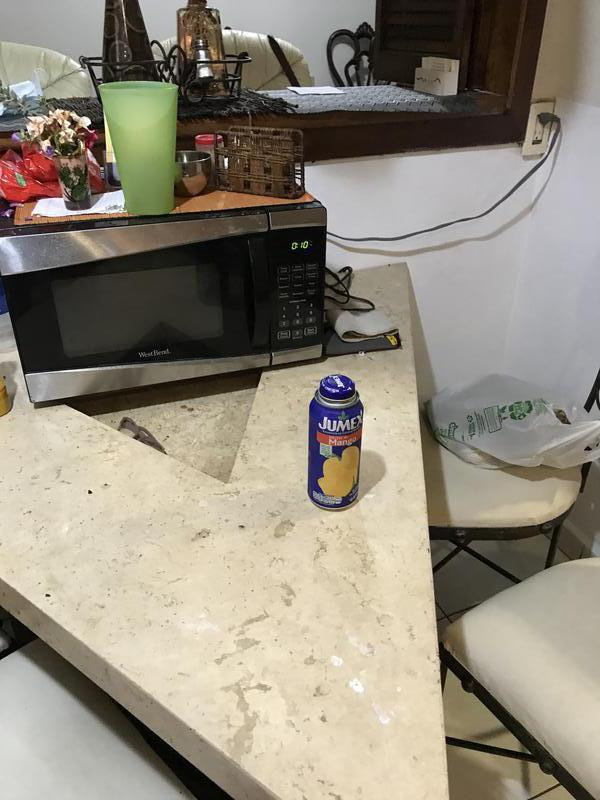jugo_jumex: (307, 374, 362, 510)
